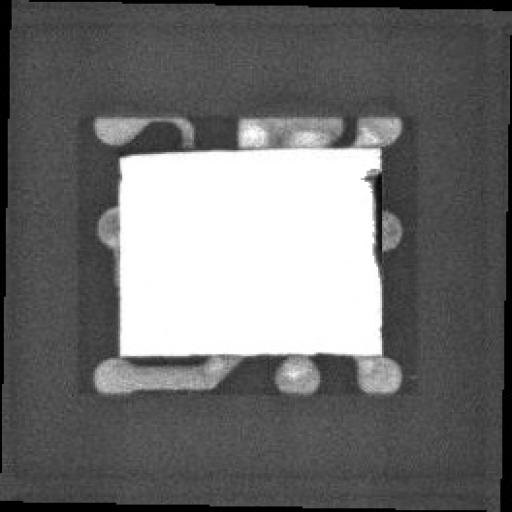DIE_BROKEN: (357, 165, 382, 275)
